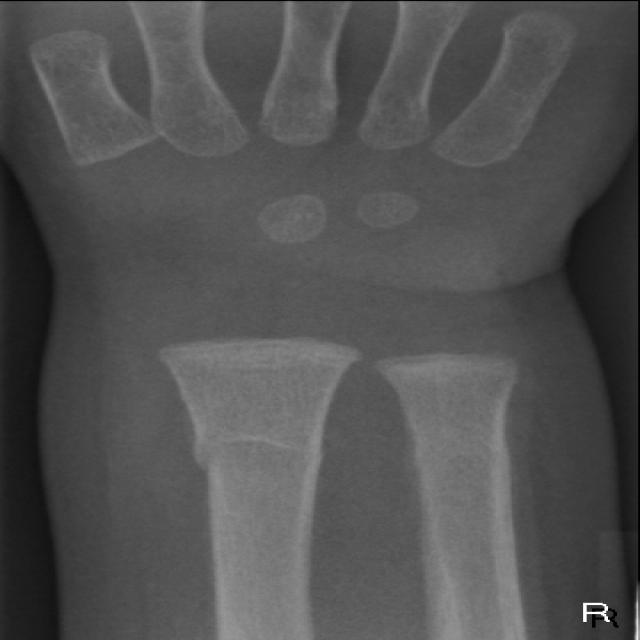radius fracture: (152, 410, 354, 499)
